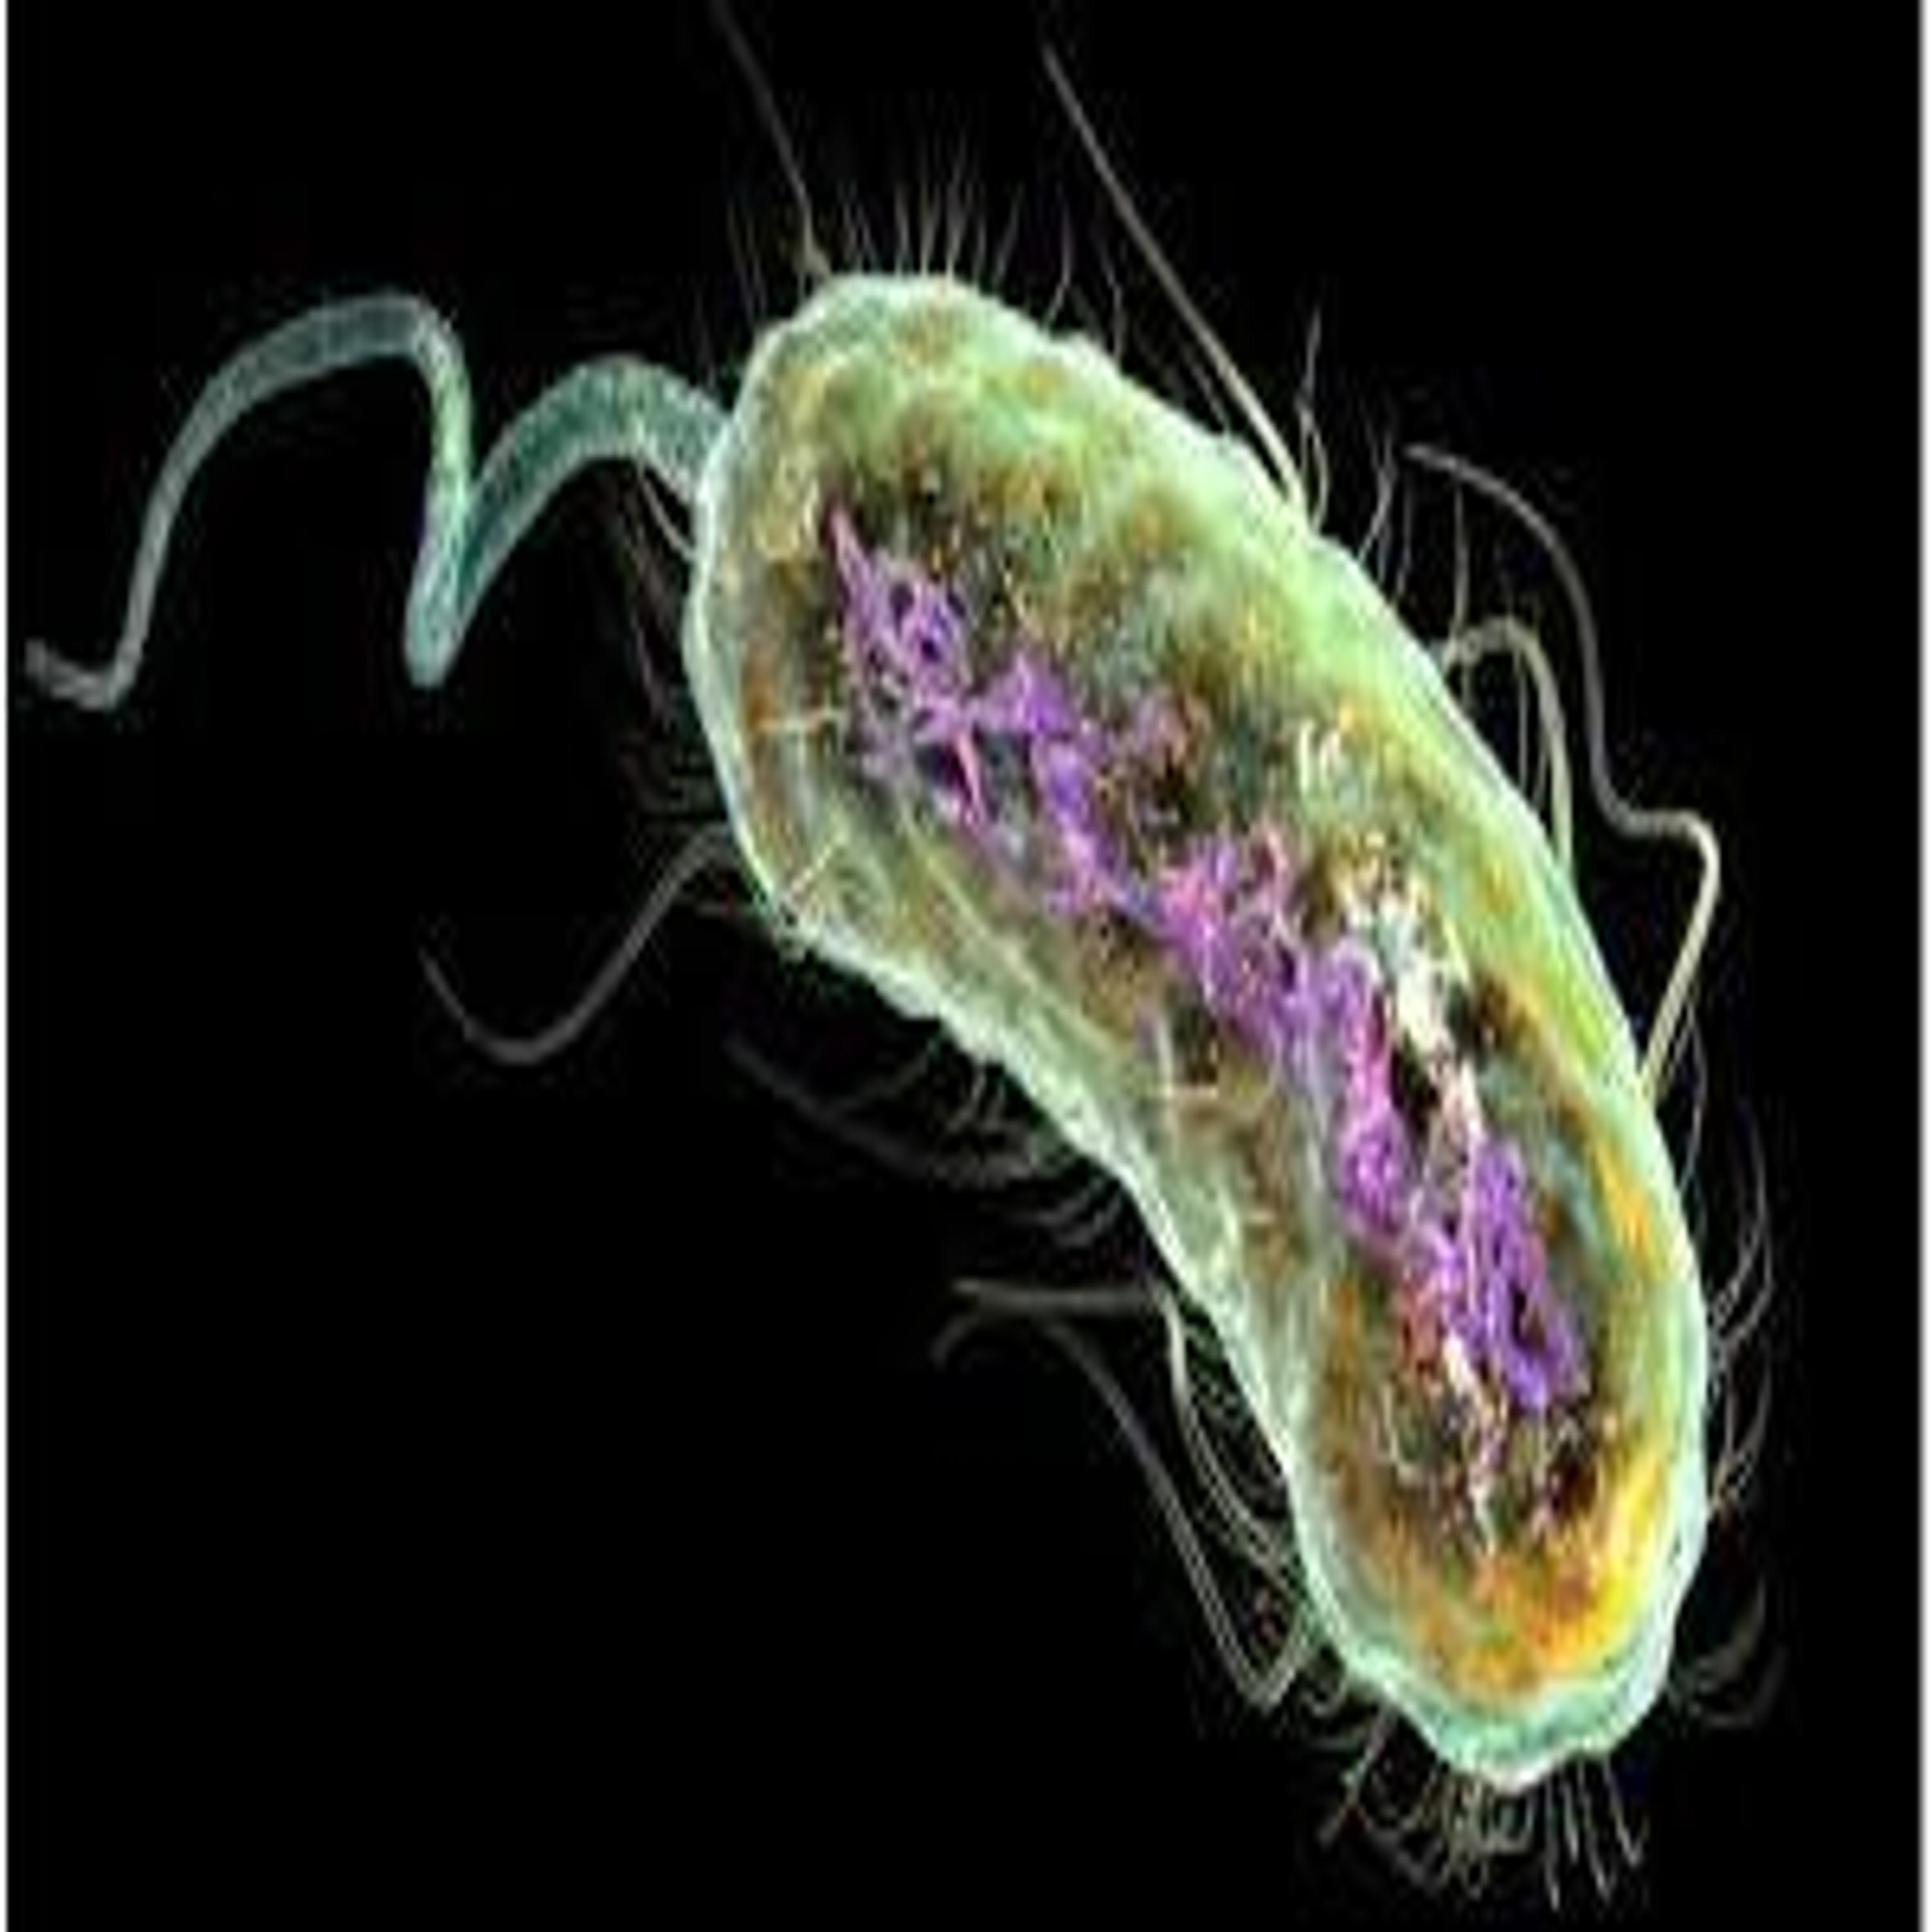e.coli5: (18, 48, 1806, 1890)
